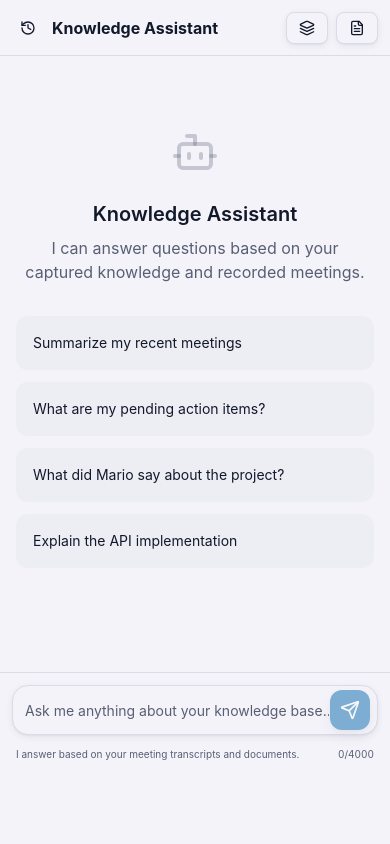
Test: Chat Component › narrow-container (overlay) adaptation › opens a history drawer from the narrow-mode toggle and lists conversations
The width and height of the screenshot is (390, 844).
Click the button with test id "chat-history-toggle" at [28, 28], box [12, 12, 44, 44]
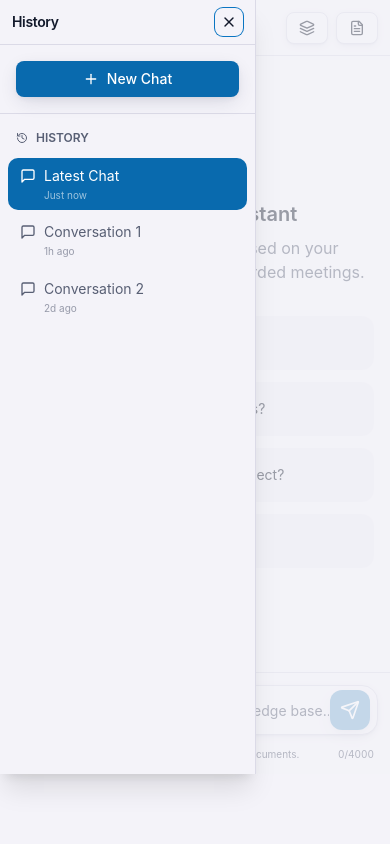
Expected: the text "Conversation 1" is shown, [44, 222, 141, 242]
Expected: the text "Latest Chat" is shown, [44, 166, 119, 186]
